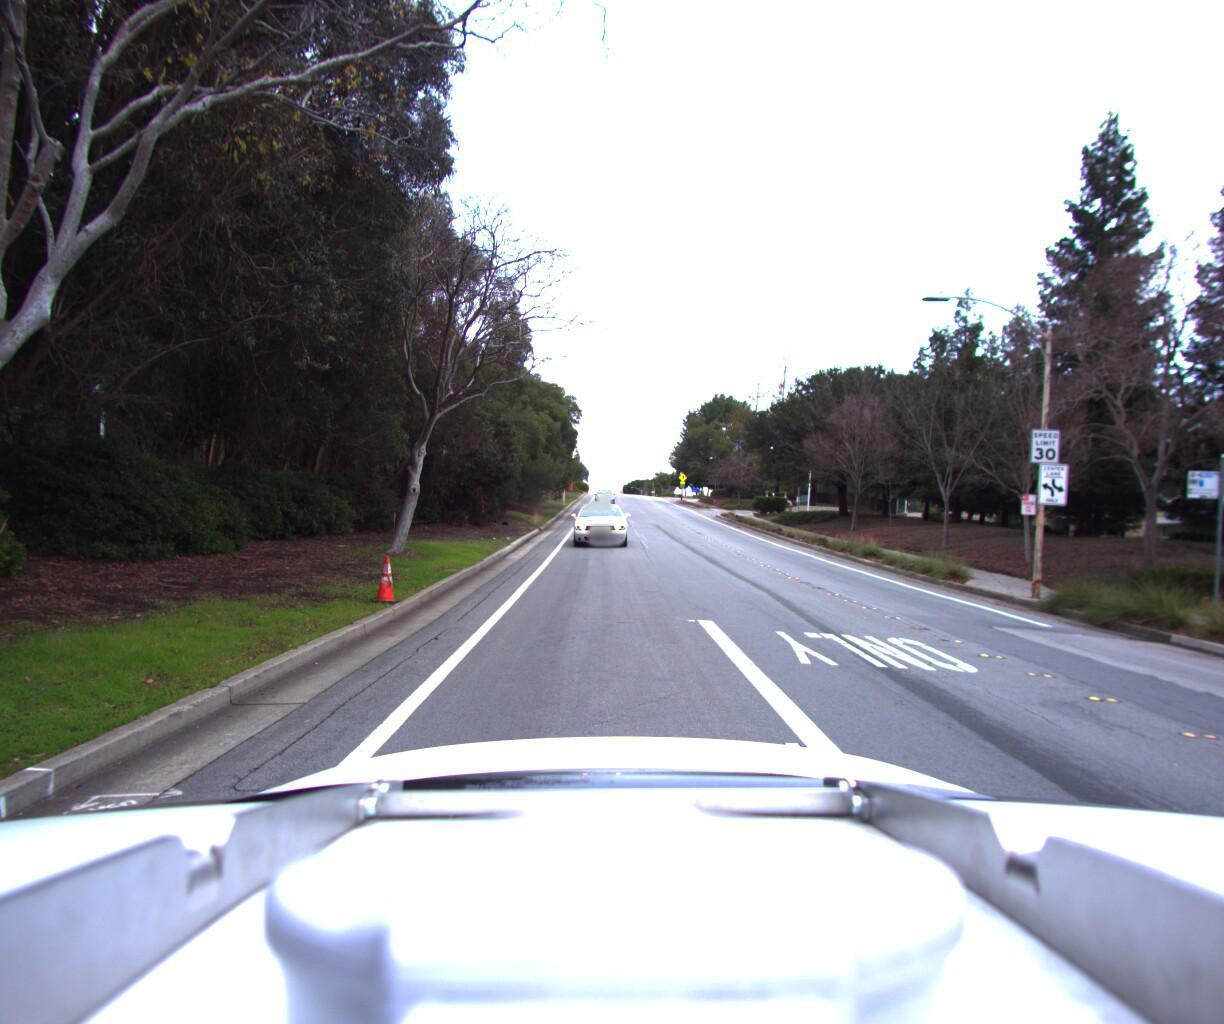car: (571, 501, 632, 555), (592, 493, 615, 513)
